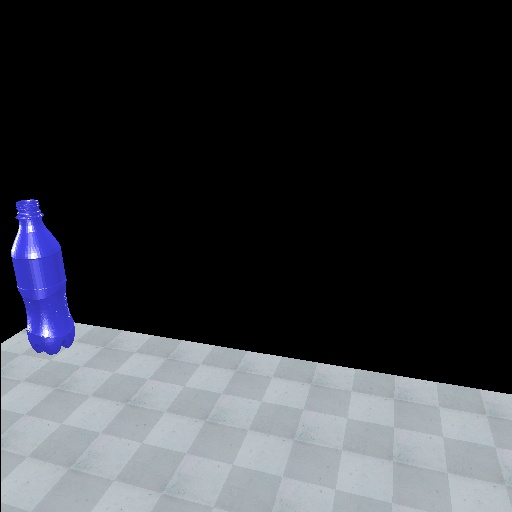bottle: (10, 194, 78, 357)
